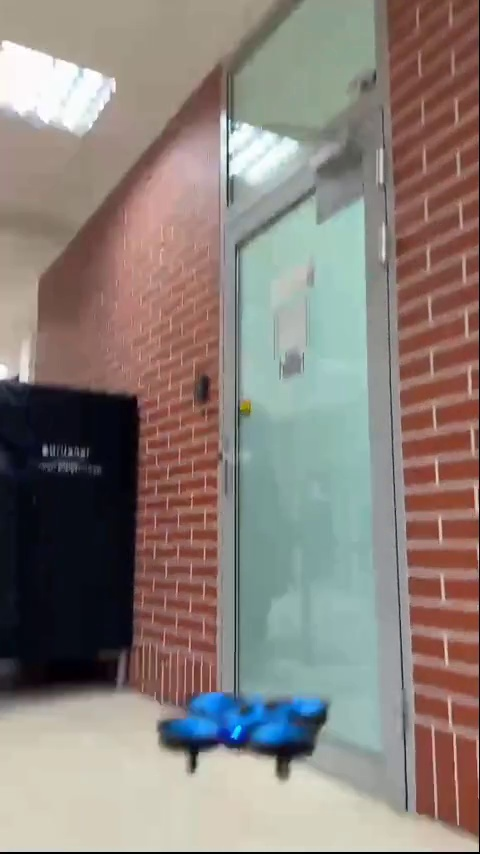drone: (153, 686, 340, 778)
